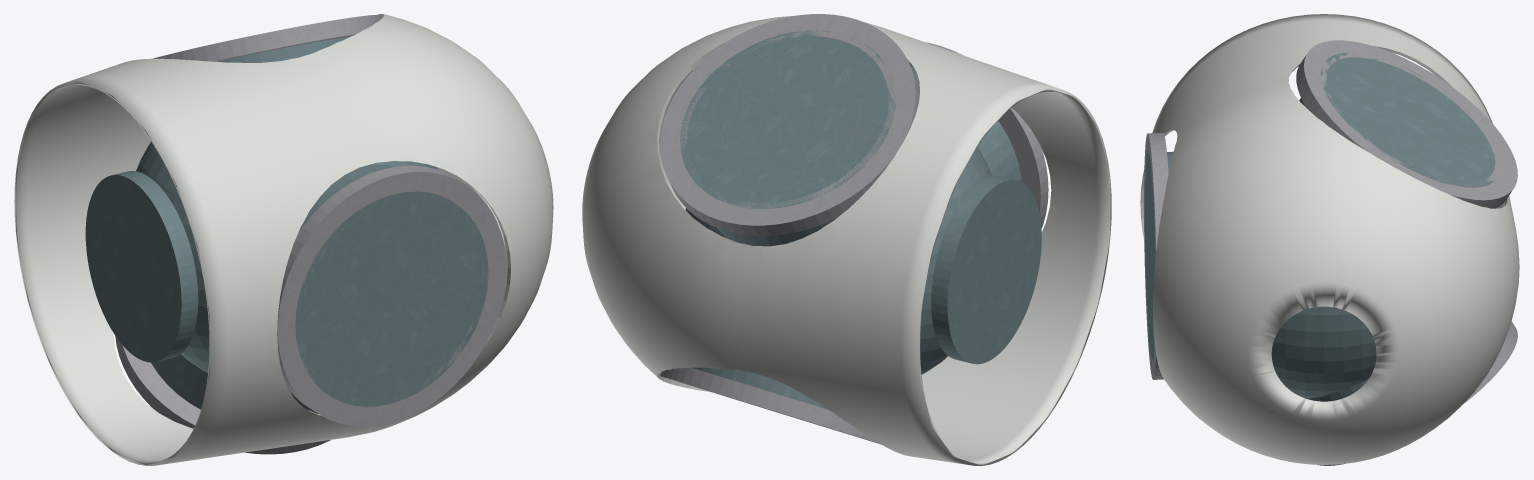
The model's file is hub.glb.
3 renders of one model, left to right at view 1: azimuth 30°, elevation 25°; view 2: azimuth 150°, elevation 25°; view 3: azimuth 270°, elevation 25°, orthographic. The views are drawn at different scales.
Visible parts, largest first — view 1: hub; view 2: hub; view 3: hub.
Part boxes in pixels (x1,y1,x2,y2): hub: (14,14,553,465); hub: (582,14,1111,465); hub: (1140,14,1519,465).
Size of the model in its own units: 4.86 by 4.89 by 4.36.
Materials: 3 (3 with a texture image).
